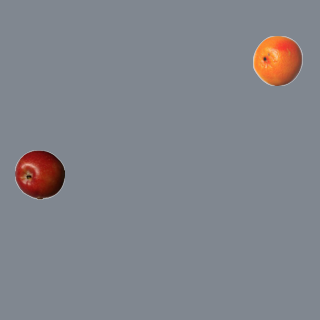Apple Braeburn: (14, 149, 64, 199)
Grapefruit Pink: (252, 35, 302, 85)
